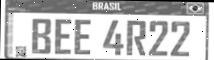placa_mercosul: (7, 0, 210, 58)
